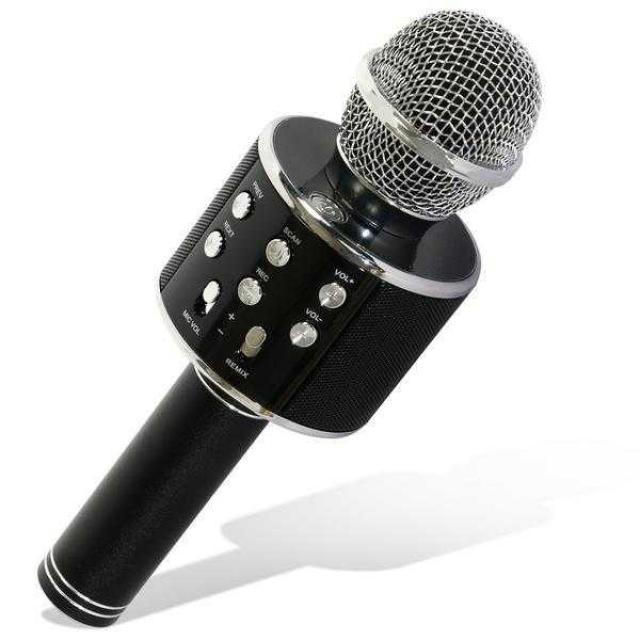microphone: (42, 12, 540, 632)
